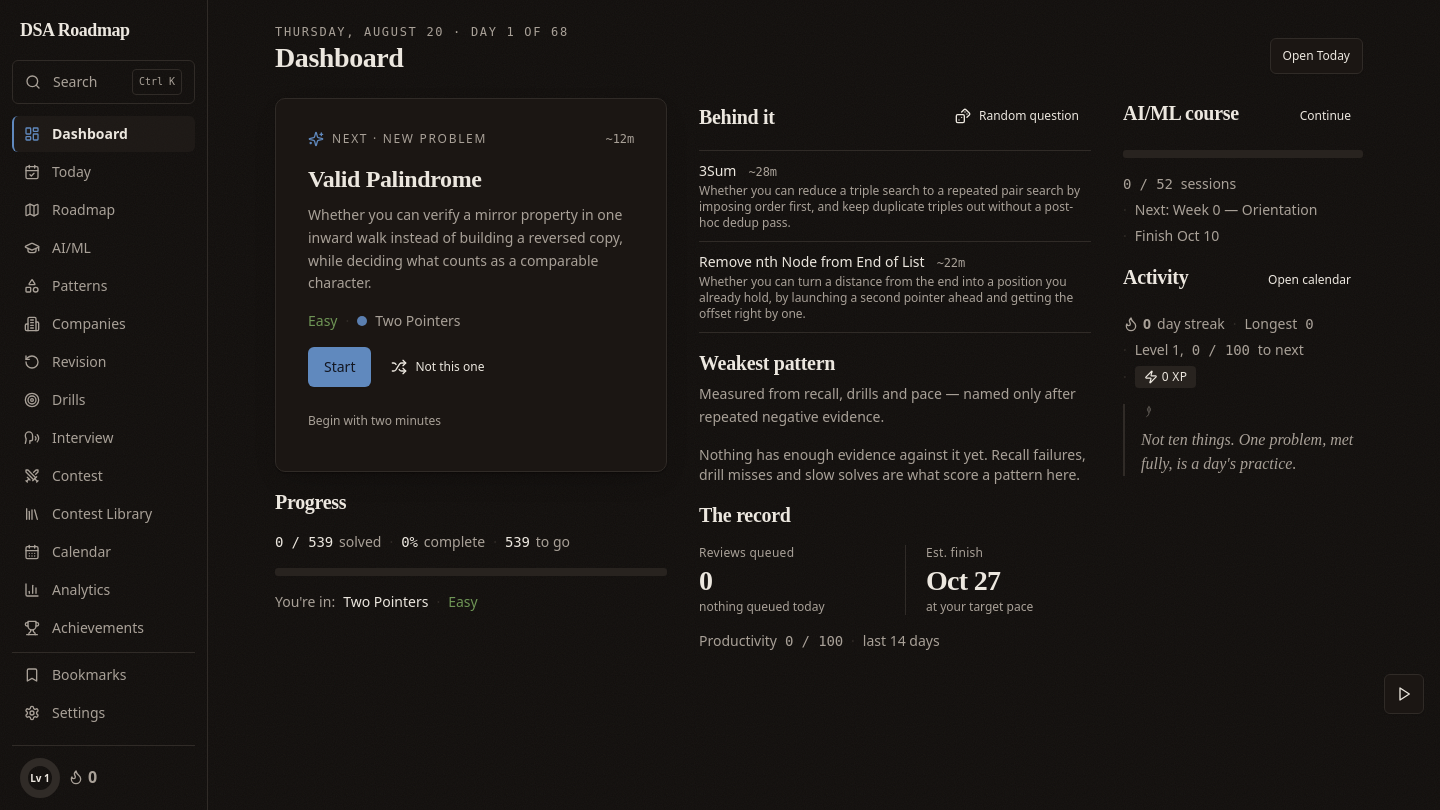
AppShell routing › clicking Today in the sidebar navigates to the Today page
Check: the heading "Dashboard" is shown, box [275, 42, 404, 73]
Click the link "Today" at (57, 172), box [24, 162, 91, 181]
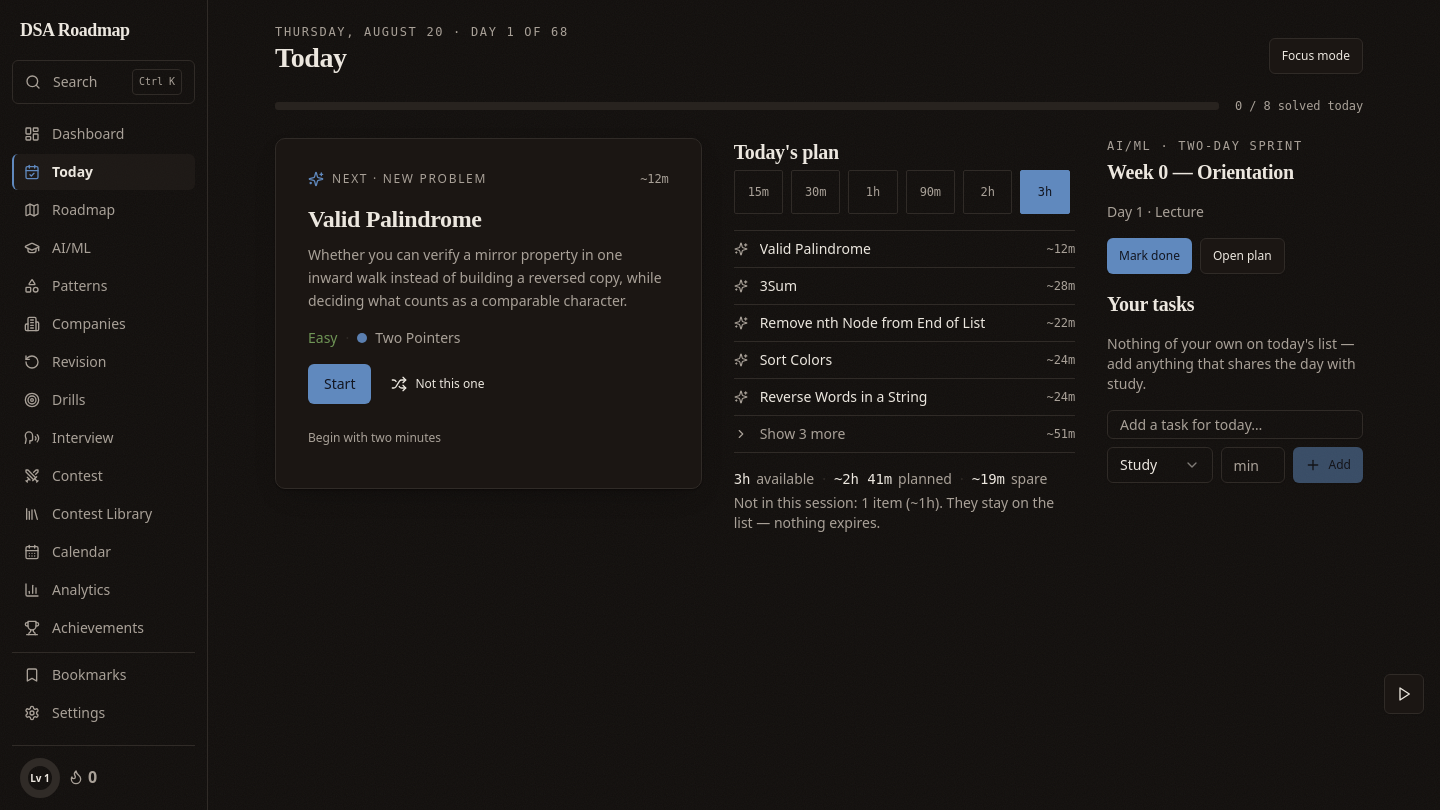
Check: the heading "Today" is shown, box [275, 42, 347, 73]
